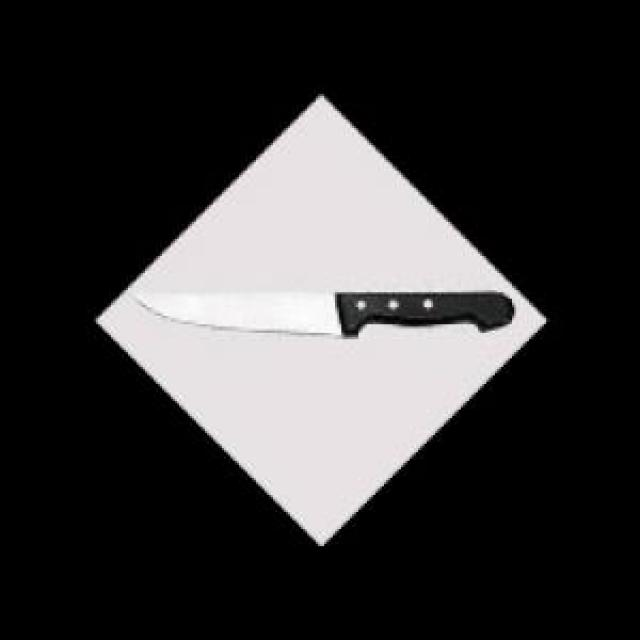knife: (137, 290, 516, 337)
